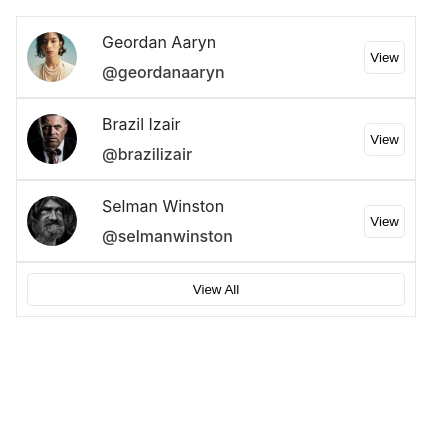
Test: Test App › should render user detail after click view
Click the button with test id "viewButton" next to "@geordanaaryn".
click(385, 57)  # box [364,40,405,74]
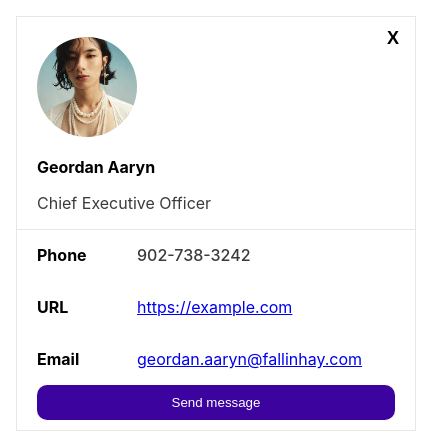
Expected: the element with test id "userDetails" is shown
